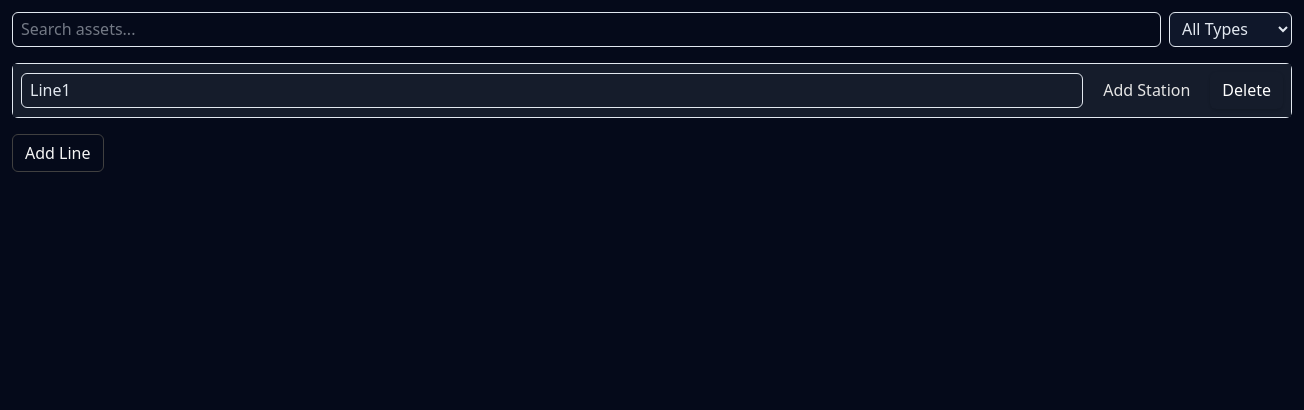
it: DepartmentHierarchyGrid › toggles line and station expansion
The width and height of the screenshot is (1304, 410).
Later steps or results of the test are not shown.
Expected: the field showing "Station1" is not shown
Click the field showing "Line1" at coordinates (552, 90), box [21, 73, 1083, 108]
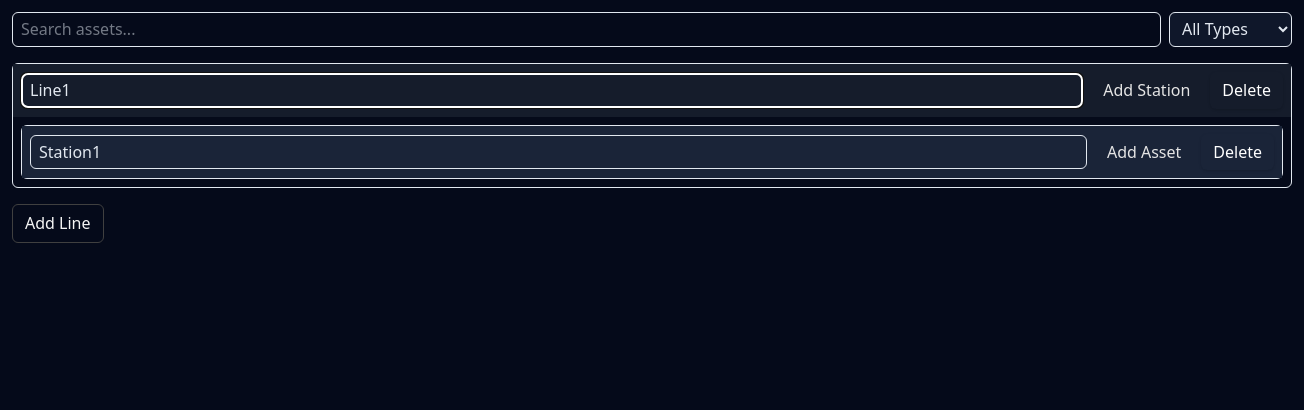
Now the 2nd field showing "Station1" is shown
Click the 2nd field showing "Station1" at coordinates (558, 152), box [30, 135, 1087, 169]
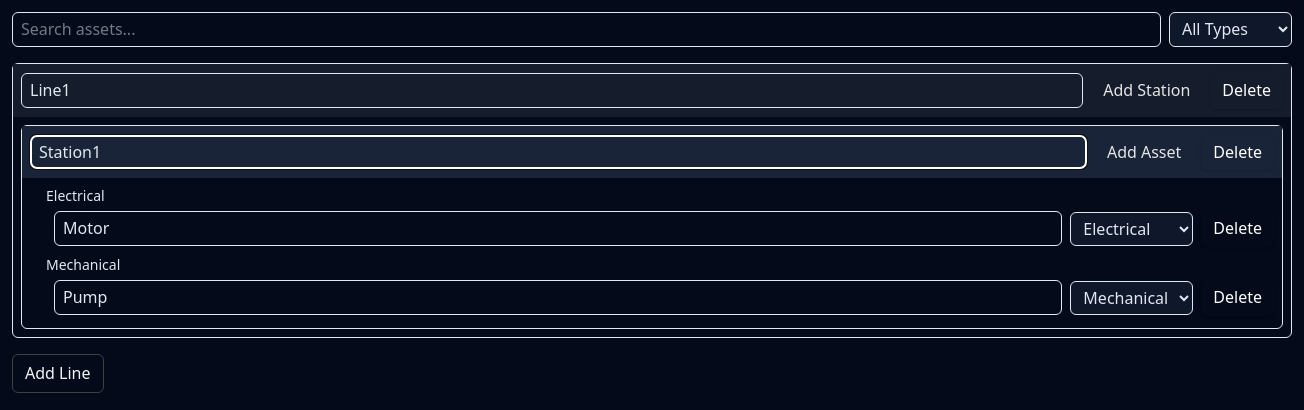
Now the field showing "Pump" below "Mechanical" is shown, box [54, 280, 1062, 315]
